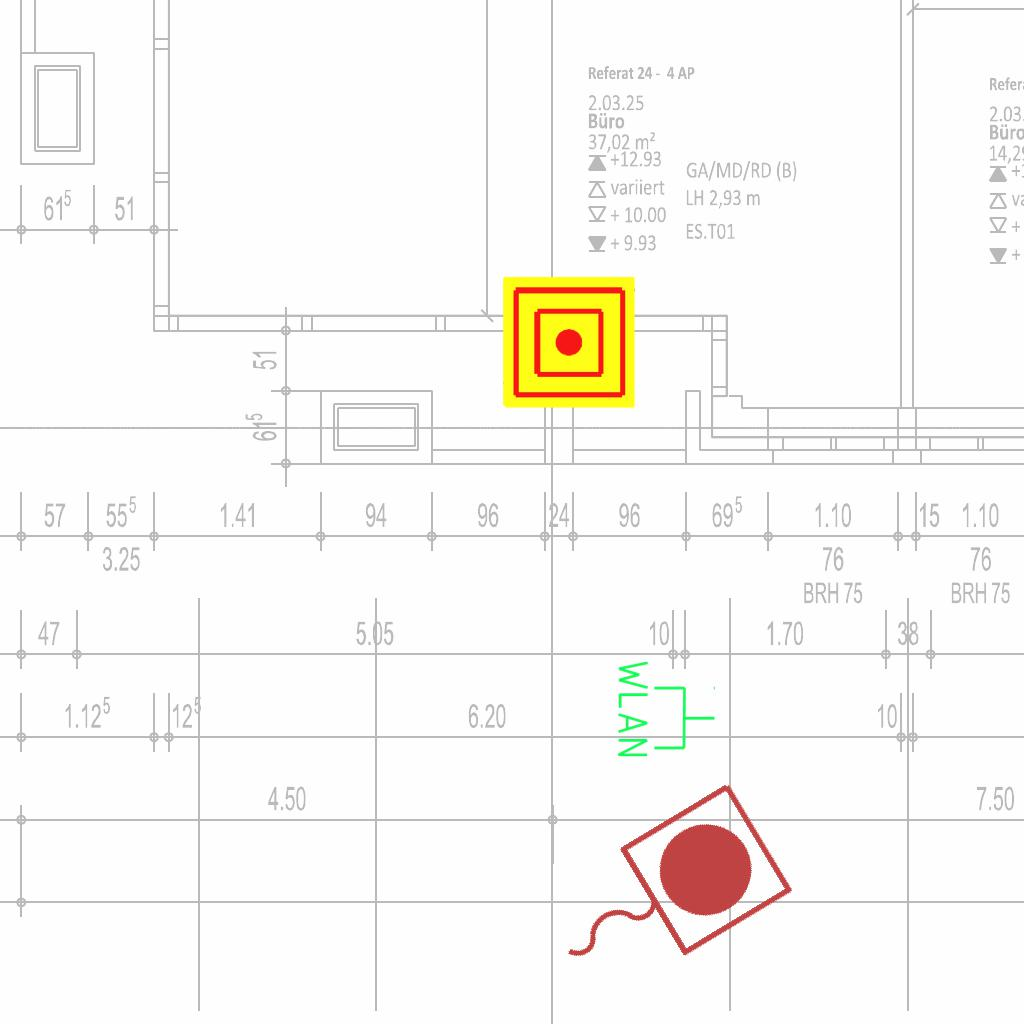NAM-Nichtautomatischer_Melder: (503, 276, 635, 408)
WLAN: (614, 656, 718, 761)
Zugtaster: (520, 769, 804, 1019)
